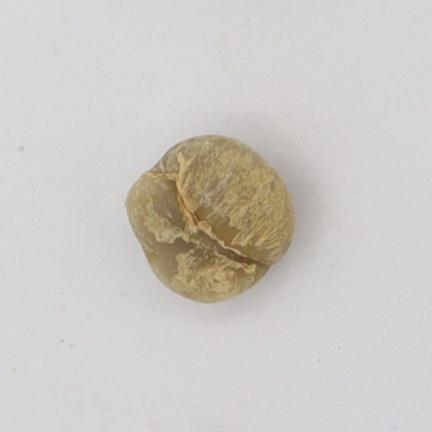immature: (126, 137, 294, 302)
